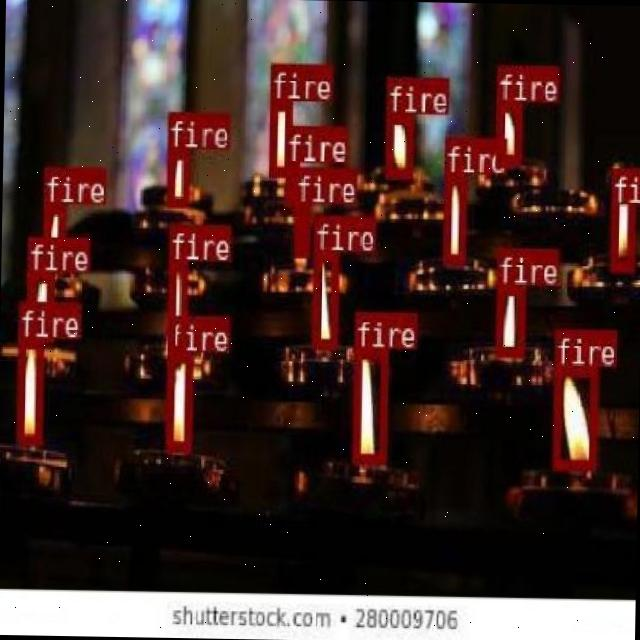fire: (552, 365, 596, 469), (351, 346, 386, 462), (16, 337, 42, 442), (164, 351, 192, 448), (610, 168, 635, 272), (312, 251, 338, 347), (494, 282, 524, 356), (24, 271, 54, 340), (443, 172, 465, 262), (166, 260, 185, 354), (384, 114, 412, 176), (268, 100, 290, 174), (41, 202, 64, 272), (494, 101, 520, 161), (166, 147, 188, 206), (291, 202, 308, 254), (284, 160, 299, 204)
